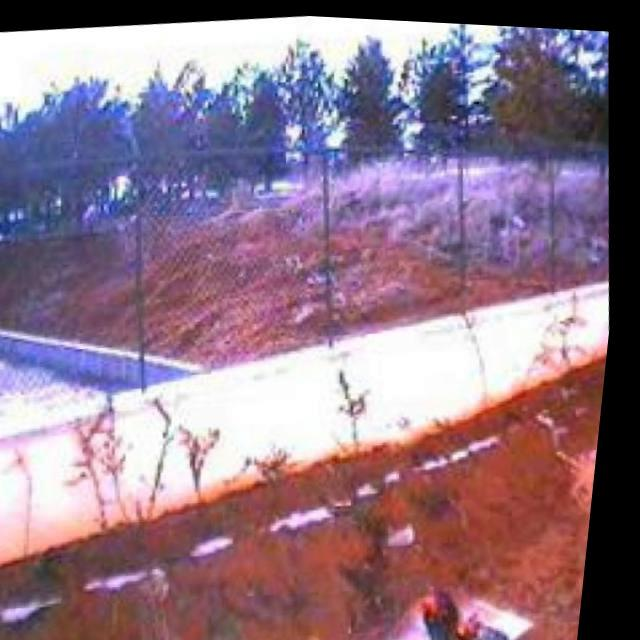fire: (418, 567, 505, 640)
